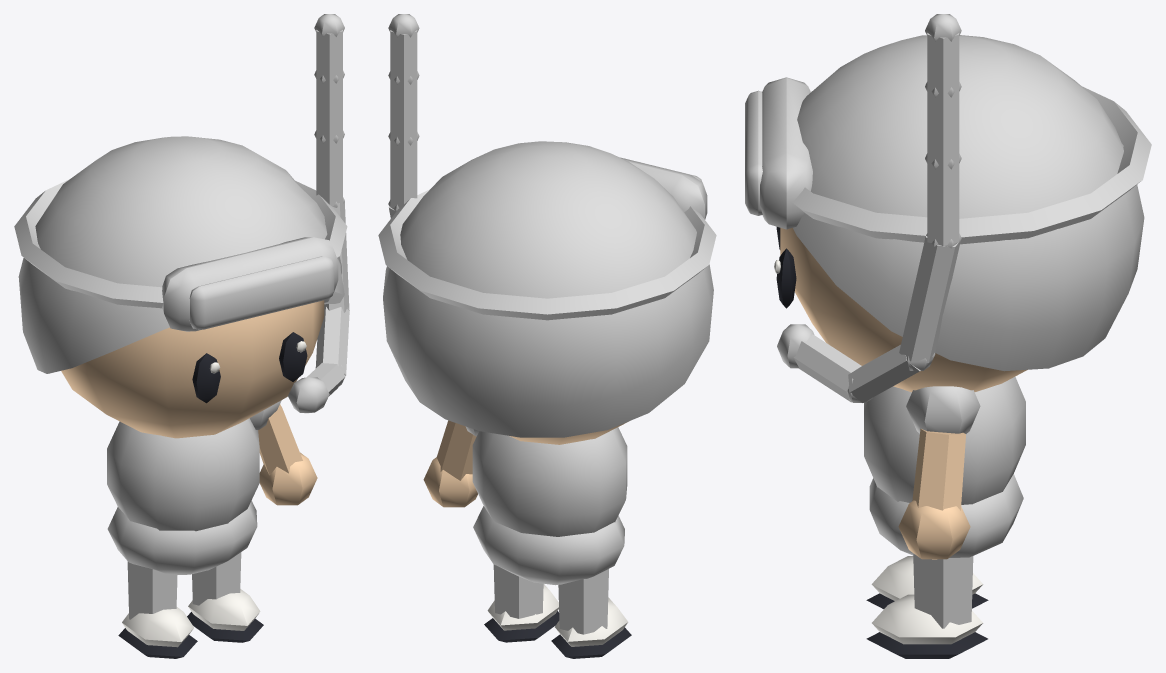
Rendered from guyh_goggle_w.fbx.
The picture shows the model from 3 angles, left to right: view 1: azimuth 30°, elevation 25°; view 2: azimuth 150°, elevation 25°; view 3: azimuth 270°, elevation 25°; orthographic projection. The views are drawn at different scales.
Parts seen in each view (by area): view 1: guyh_goggle_w; view 2: guyh_goggle_w; view 3: guyh_goggle_w.
Boxes of the visible parts, bbox=[...] form: guyh_goggle_w: bbox=[14, 14, 349, 658]; guyh_goggle_w: bbox=[378, 14, 716, 658]; guyh_goggle_w: bbox=[745, 14, 1151, 658].
Bounding box in the file's own units: 0.4731 × 0.8807 × 0.4618.
